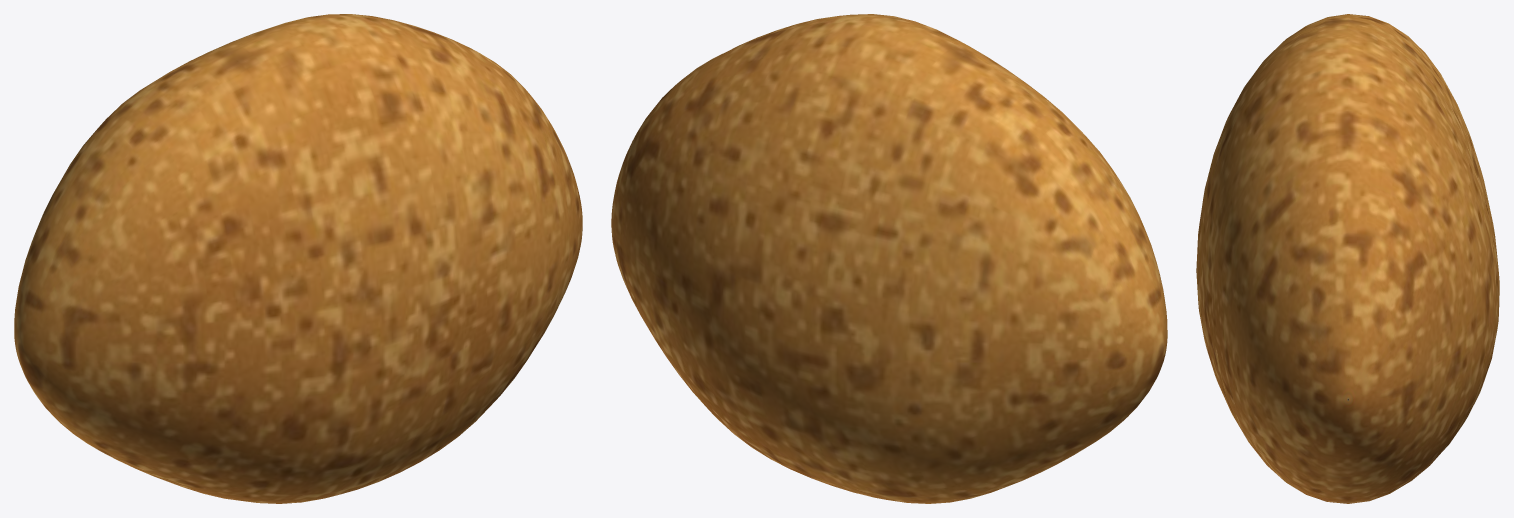
The model's file is currypan.glb.
The picture shows the model from 3 angles, left to right: view 1: azimuth 30°, elevation 25°; view 2: azimuth 150°, elevation 25°; view 3: azimuth 270°, elevation 25°; orthographic projection. The views are drawn at different scales.
Visible parts, largest first — view 1: currypan; view 2: currypan; view 3: currypan.
Boxes of the visible parts, x1,y1,x2,y2 form: currypan: [14, 14, 582, 503]; currypan: [611, 14, 1167, 503]; currypan: [1196, 14, 1499, 503].
Bounding box in the file's own units: 0.98 × 0.78 × 0.5.
1 material, 1 textured.
